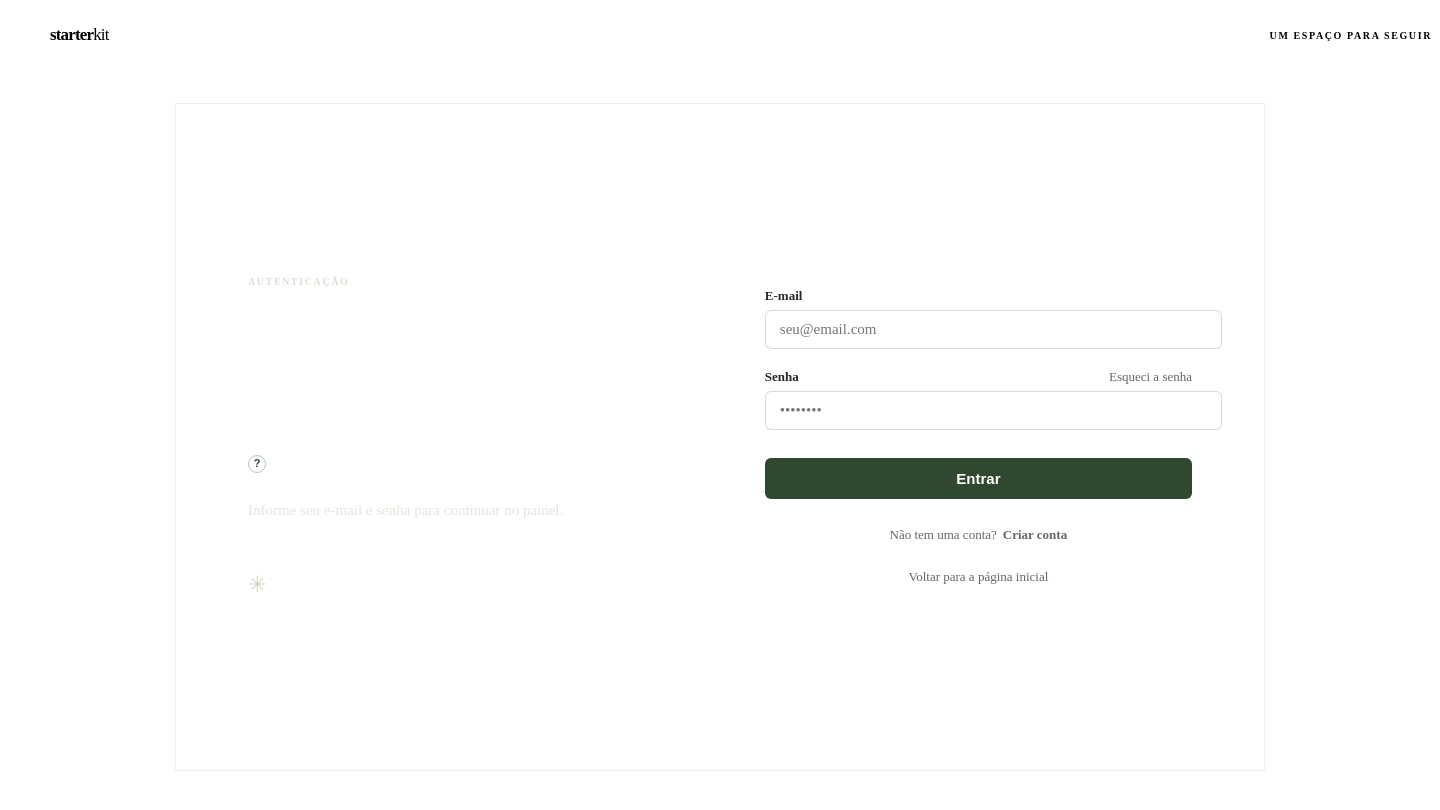
Scenario: LoginPage.vue › displays error message on 401 unauthorized
In the field labelled "E-mail": (993, 330) [765,310,1222,349], type "maria@example.com"
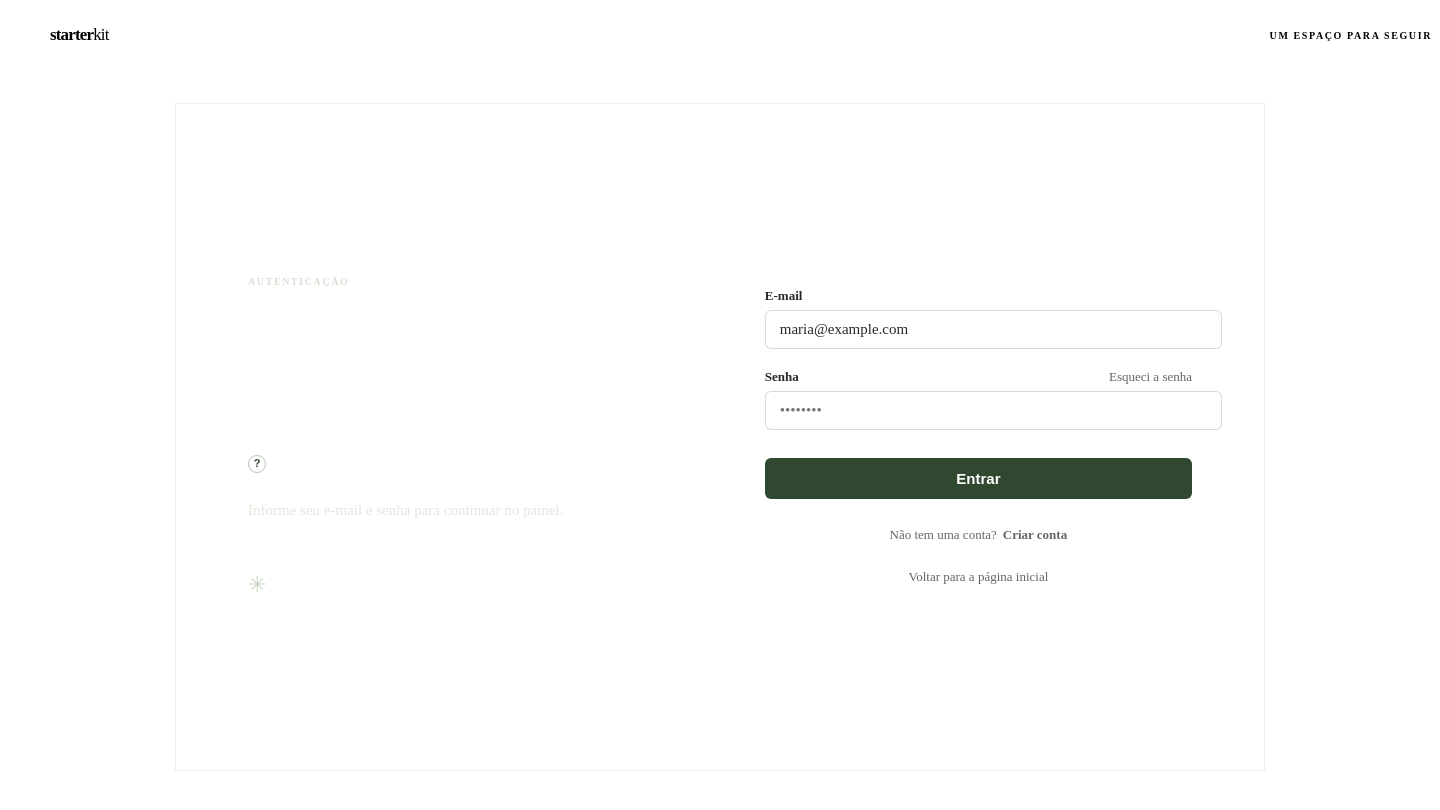
In the password field labelled "Senha": (993, 410) [765,391,1222,430], type "wrong"
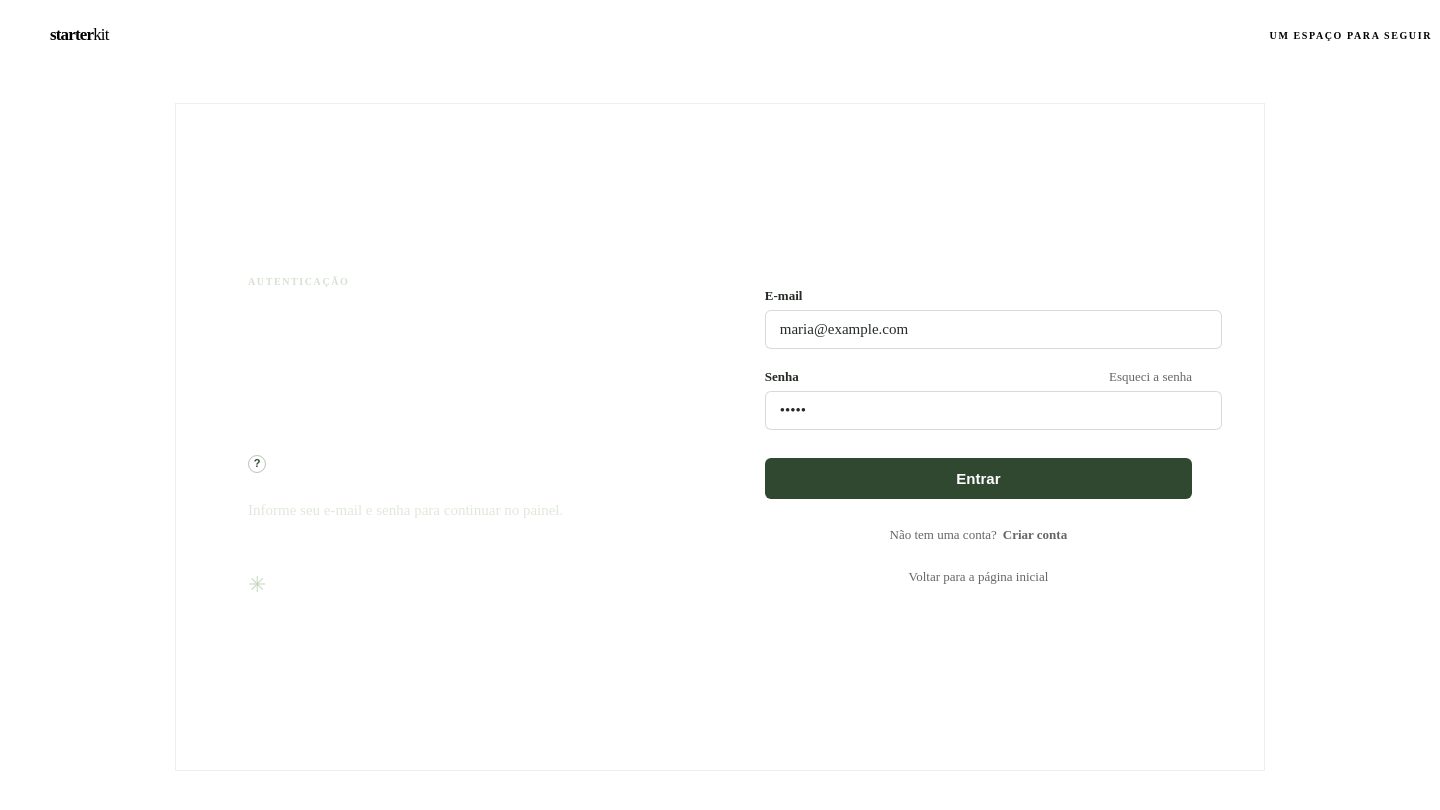
Submit the form, box [765,288,1192,585]
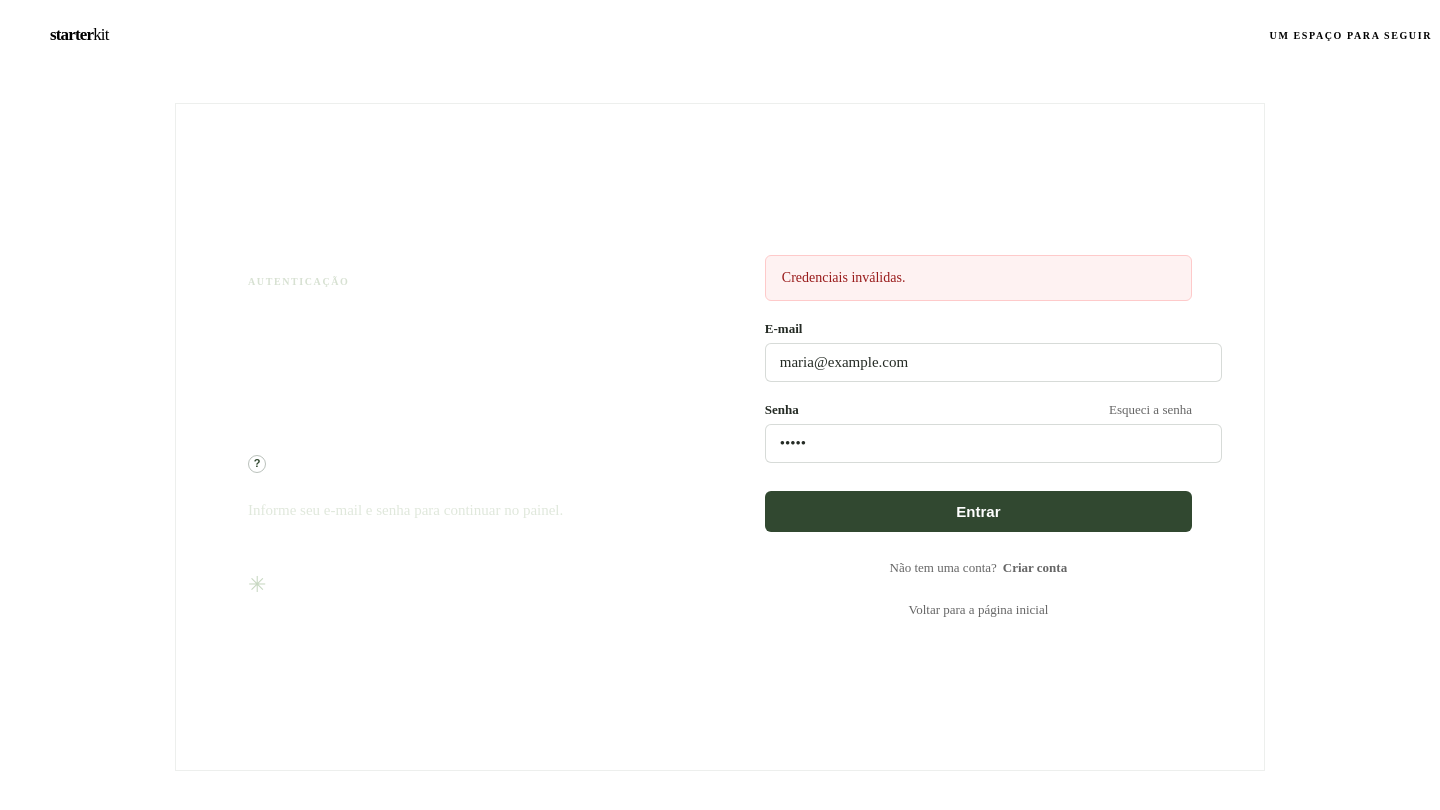
Expected: the message "Credenciais inválidas." is shown, [765,255,1192,301]
